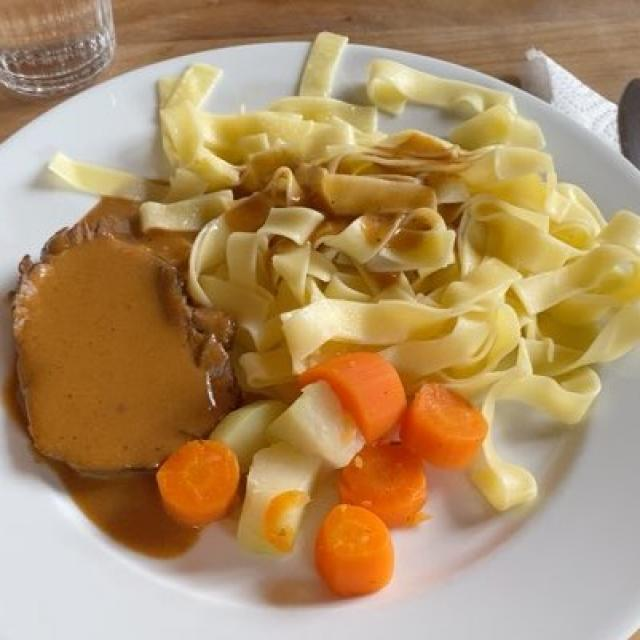carrot-raw: (162, 358, 489, 588)
pasta-linguini-parpadelle-tagliatelle: (49, 54, 610, 522)
pork-roast: (1, 233, 231, 466)
potatoes-steamed: (212, 395, 359, 562)
sauce-roast: (31, 233, 230, 557)
